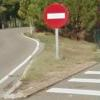crosswalks: (47, 66, 100, 100)
